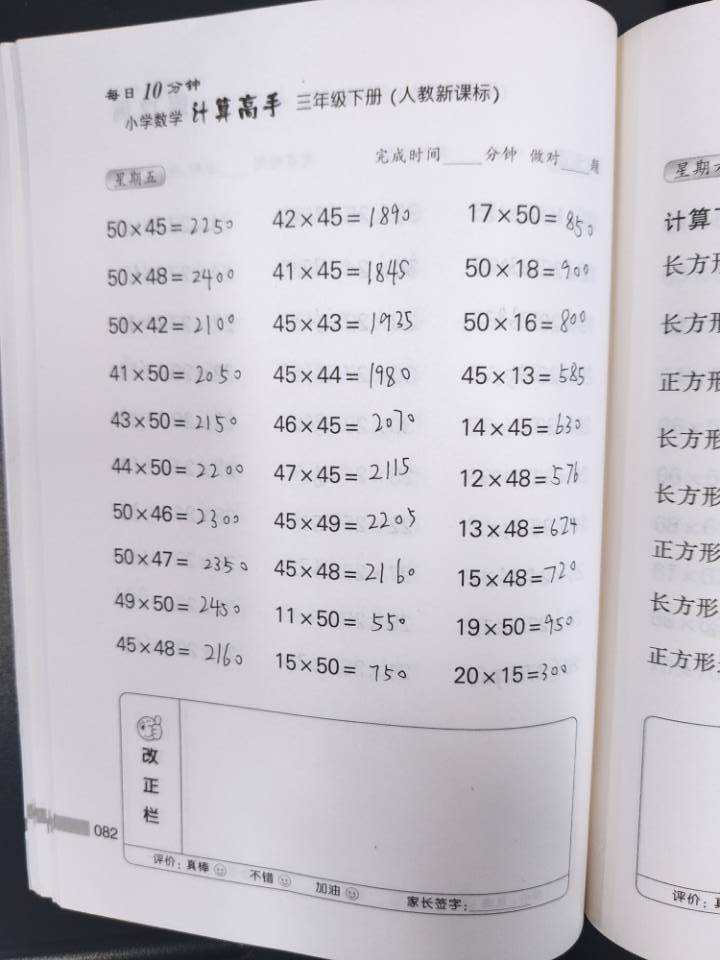equation: (443, 385, 476, 600), (299, 395, 332, 609), (376, 392, 408, 607), (264, 621, 296, 836), (226, 628, 258, 843), (473, 612, 505, 827), (404, 620, 436, 835), (372, 612, 404, 827), (333, 612, 365, 827), (339, 160, 371, 375), (225, 153, 257, 368), (415, 156, 447, 371), (380, 156, 412, 371), (482, 385, 514, 600), (411, 387, 443, 601), (338, 395, 370, 609), (297, 611, 329, 825), (192, 619, 224, 833), (440, 615, 472, 829), (301, 147, 333, 361), (266, 155, 298, 369), (488, 167, 520, 381), (454, 163, 486, 377), (152, 637, 185, 832), (267, 405, 300, 600), (185, 401, 218, 596), (186, 159, 219, 353), (141, 407, 174, 601), (223, 407, 256, 601), (146, 156, 178, 351)
